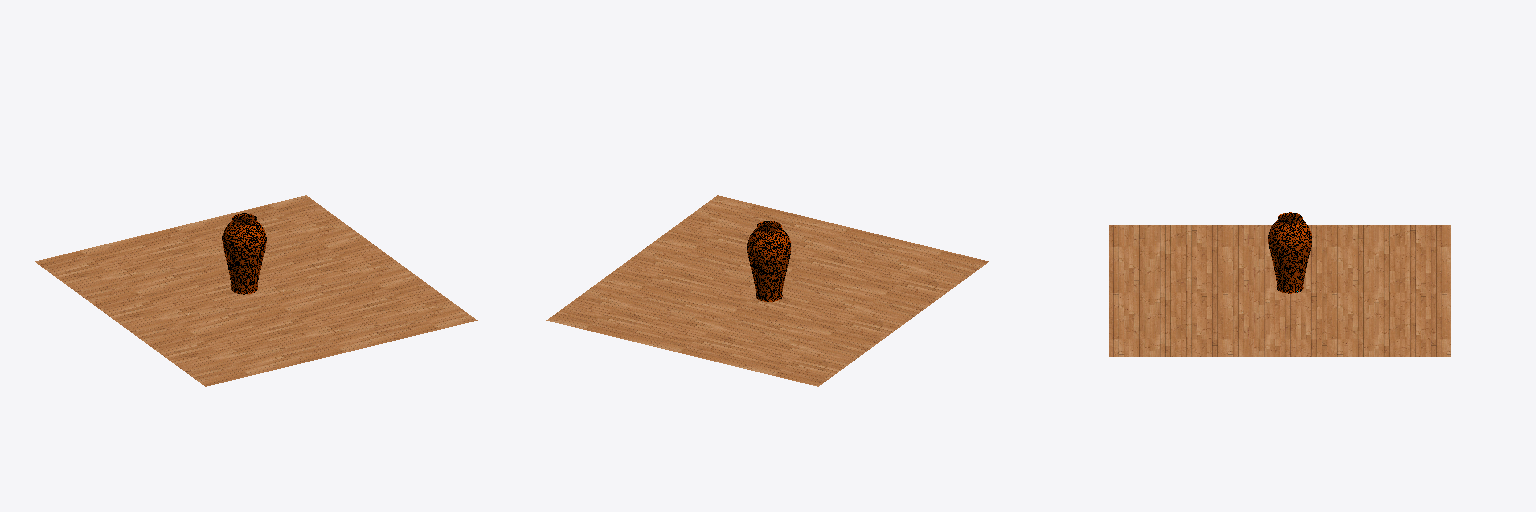
3 renders of one model, left to right at view 1: azimuth 30°, elevation 25°; view 2: azimuth 150°, elevation 25°; view 3: azimuth 270°, elevation 25°, orthographic.
Parts seen in each view (by area): view 1: pPlane1, pCylinder1; view 2: pPlane1, pCylinder1; view 3: pPlane1, pCylinder1.
Boxes of the visible parts, x1=… form: pPlane1: x1=35, y1=195, x2=477, y2=386; pCylinder1: x1=222, y1=213, x2=266, y2=294; pPlane1: x1=546, y1=195, x2=988, y2=386; pCylinder1: x1=747, y1=221, x2=790, y2=301; pPlane1: x1=1109, y1=225, x2=1450, y2=356; pCylinder1: x1=1268, y1=212, x2=1311, y2=293.
Bounding box in the file's own units: 6.61 × 1.64 × 7.21.
2 materials, 2 textured.